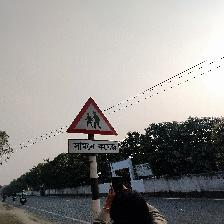College-in-front: (56, 79, 131, 162)
